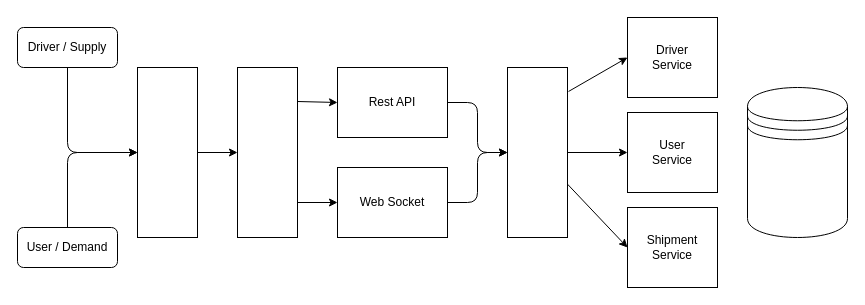
The diagram is 865 pixels wide and 305 high, and some of its shapes have lost their labels. The centre of each missing label's shape, as x and y in pixels:
"Firewall" belongs at point (167, 152).
"Kafka" belongs at point (537, 152).
"LB" belongs at point (267, 152).
"Mongodb" belongs at point (797, 162).
